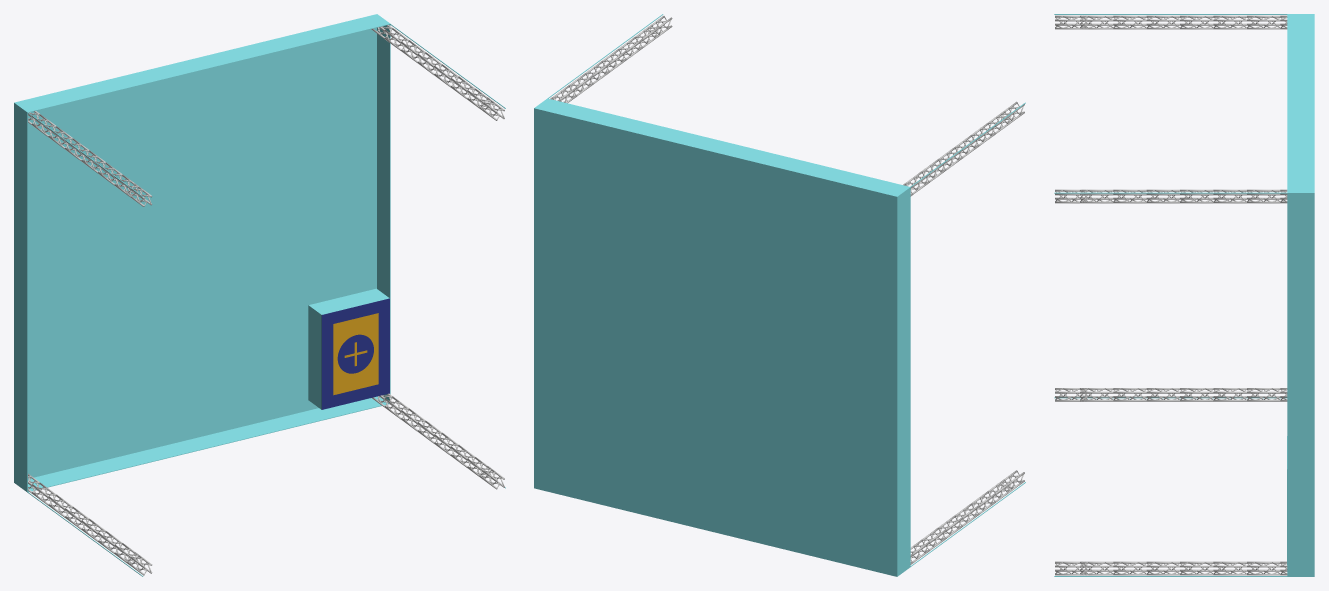
File: Arena.obj
3 renders of one model, left to right at view 1: azimuth 30°, elevation 25°; view 2: azimuth 150°, elevation 25°; view 3: azimuth 270°, elevation 25°, orthographic.
Visible parts, largest first — view 1: ground_Body1.019, arena_frame_Body1, cost_base_blue_frame_Body1.011, cost_base_yellow_frame_Body2.001, cost_base_Body1.013, Steel_Truss_(Tileable).002_Steel_Truss_(Tileable).009, Steel_Truss_(Tileable).001_Steel_Truss_(Tileable).008, Steel_Truss_(Tileable), Steel_Truss_(Tileable).003_Steel_Truss_(Tileable).010, cost_land_blue_circle_Body3.001; view 2: ground_Body1.019, arena_frame_Body1, Steel_Truss_(Tileable), Steel_Truss_(Tileable).002_Steel_Truss_(Tileable).009, Steel_Truss_(Tileable).003_Steel_Truss_(Tileable).010; view 3: arena_frame_Body1, Steel_Truss_(Tileable).003_Steel_Truss_(Tileable).010, Steel_Truss_(Tileable).002_Steel_Truss_(Tileable).009, Steel_Truss_(Tileable).001_Steel_Truss_(Tileable).008, Steel_Truss_(Tileable), ground_Body1.019.
Boxes of the visible parts, x1,y1,x2,y2 form: ground_Body1.019: [14, 14, 376, 482]; arena_frame_Body1: [14, 14, 505, 576]; cost_base_blue_frame_Body1.011: [321, 298, 389, 409]; cost_base_yellow_frame_Body2.001: [333, 313, 378, 395]; cost_base_Body1.013: [308, 288, 389, 409]; Steel_Truss_(Tileable).002_Steel_Truss_(Tileable).009: [371, 25, 504, 120]; Steel_Truss_(Tileable).001_Steel_Truss_(Tileable).008: [372, 393, 504, 489]; Steel_Truss_(Tileable): [28, 473, 152, 575]; Steel_Truss_(Tileable).003_Steel_Truss_(Tileable).010: [28, 111, 152, 206]; cost_land_blue_circle_Body3.001: [337, 334, 373, 373]; ground_Body1.019: [534, 108, 897, 576]; arena_frame_Body1: [535, 14, 1025, 576]; Steel_Truss_(Tileable): [910, 470, 1024, 564]; Steel_Truss_(Tileable).002_Steel_Truss_(Tileable).009: [550, 16, 672, 103]; Steel_Truss_(Tileable).003_Steel_Truss_(Tileable).010: [903, 101, 1024, 196]; arena_frame_Body1: [1054, 14, 1313, 576]; Steel_Truss_(Tileable).003_Steel_Truss_(Tileable).010: [1055, 15, 1287, 29]; Steel_Truss_(Tileable).002_Steel_Truss_(Tileable).009: [1055, 189, 1287, 203]; Steel_Truss_(Tileable).001_Steel_Truss_(Tileable).008: [1055, 561, 1287, 575]; Steel_Truss_(Tileable): [1055, 388, 1287, 401]; ground_Body1.019: [1314, 14, 1314, 576].
Bounding box in the file's own units: 8 × 8 × 4.91.
